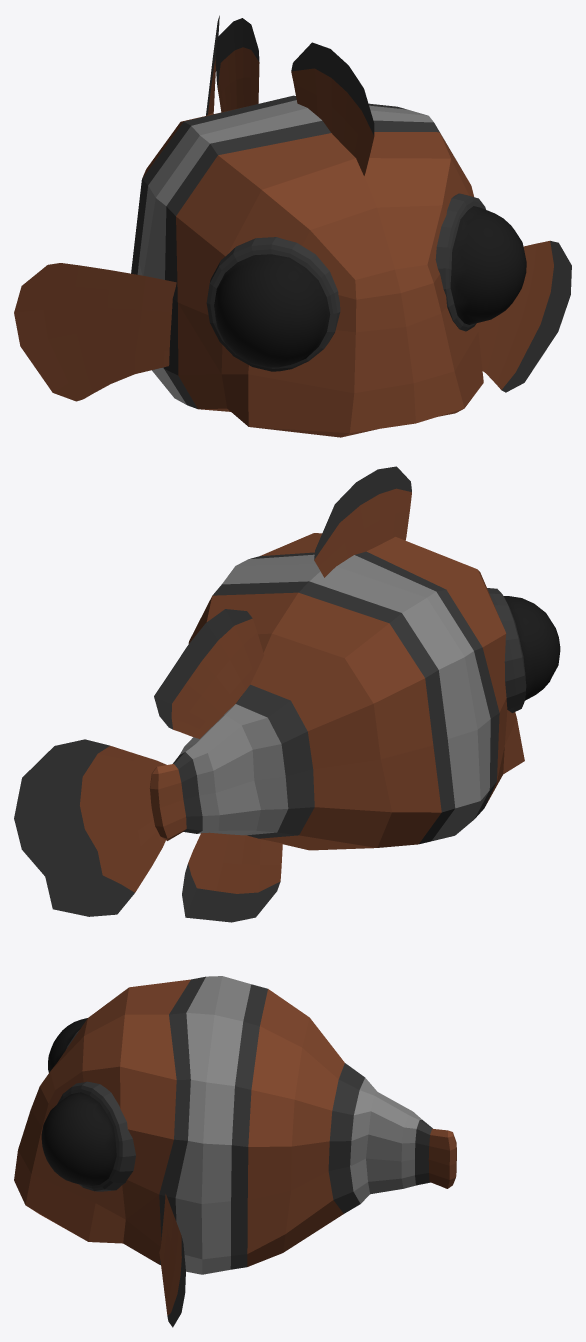
The model's file is Clownfish.glb.
3 views of the same model, one above another, from view 1: azimuth 30°, elevation 25°; view 2: azimuth 150°, elevation 25°; view 3: azimuth 270°, elevation 25° (orthographic). The views are drawn at different scales.
Parts seen in each view (by area): view 1: Clownfish_Cube.029; view 2: Clownfish_Cube.029; view 3: Clownfish_Cube.029.
Boxes of the visible parts, x1,y1,x2,y2 form: Clownfish_Cube.029: (14,15,571,437); Clownfish_Cube.029: (14,466,560,922); Clownfish_Cube.029: (14,976,456,1327).
Bounding box in the file's own units: 4.34 × 3.07 × 5.03.
